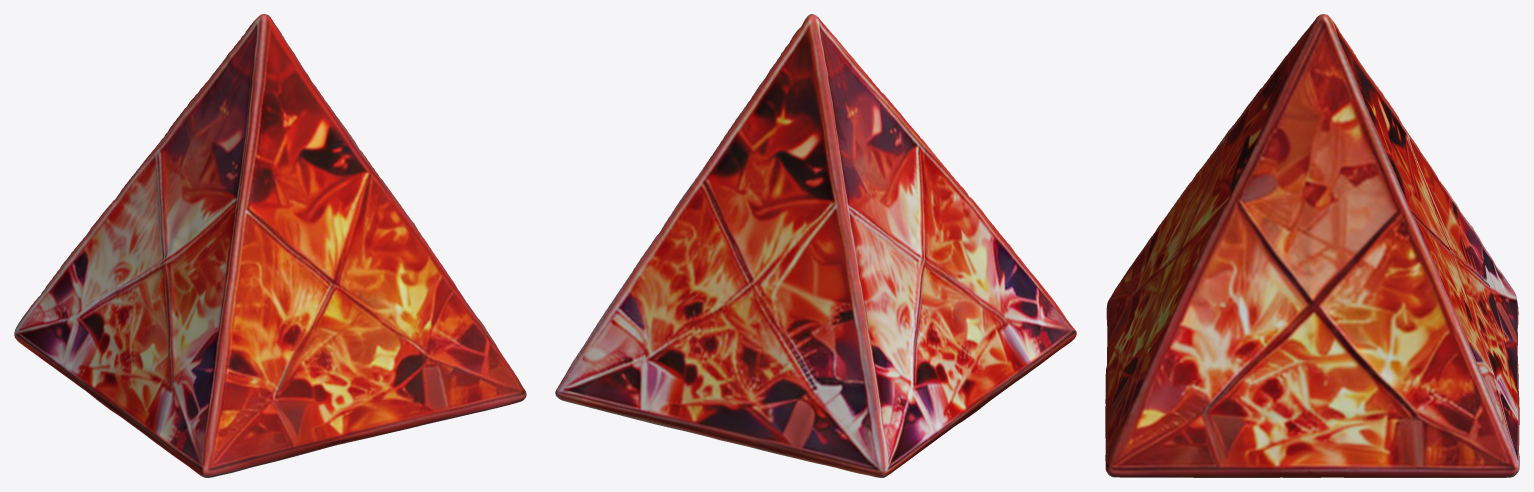
The model's file is tetrahedron_3d.glb.
The picture shows the model from 3 angles, left to right: view 1: azimuth 30°, elevation 25°; view 2: azimuth 150°, elevation 25°; view 3: azimuth 270°, elevation 25°; orthographic projection. The views are drawn at different scales.
Visible parts, largest first — view 1: tripo_node_5d419eb0-a6d0-4514-ba7e-8ba12e39d412; view 2: tripo_node_5d419eb0-a6d0-4514-ba7e-8ba12e39d412; view 3: tripo_node_5d419eb0-a6d0-4514-ba7e-8ba12e39d412.
Part boxes in pixels (<box>): tripo_node_5d419eb0-a6d0-4514-ba7e-8ba12e39d412: <box>14,14,526,477</box>; tripo_node_5d419eb0-a6d0-4514-ba7e-8ba12e39d412: <box>555,14,1076,477</box>; tripo_node_5d419eb0-a6d0-4514-ba7e-8ba12e39d412: <box>1105,14,1519,477</box>.
Size of the model in its own units: 0.5831 by 0.6048 by 0.5945.
Materials: 1 (1 with a texture image).
